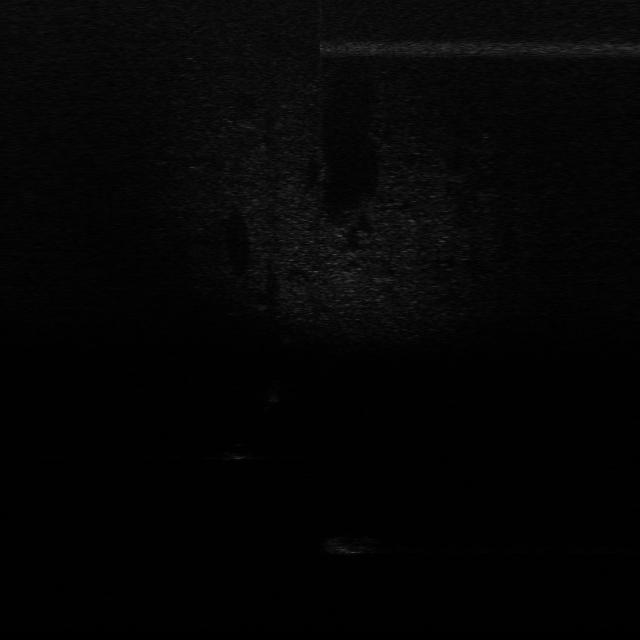ball: (227, 441, 251, 462)
circle cage: (314, 531, 384, 557)
human body: (260, 378, 286, 414)
